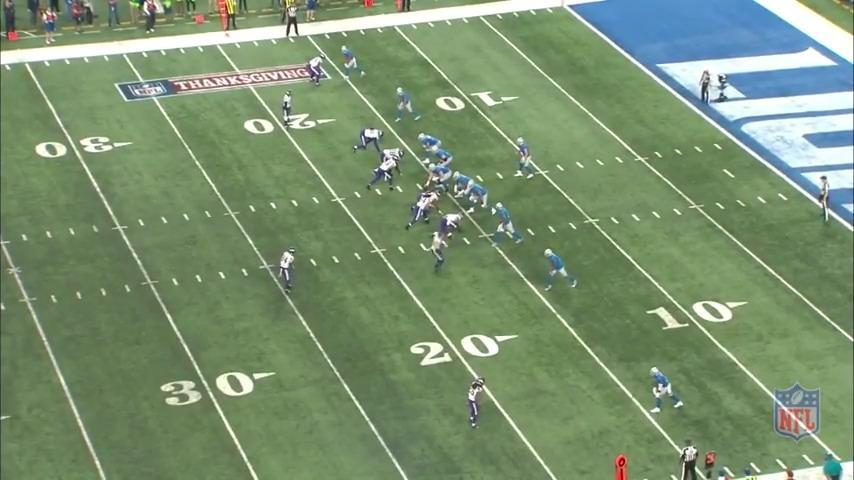player: (648, 365, 687, 417), (543, 245, 581, 294), (405, 189, 441, 231), (490, 200, 521, 247), (465, 373, 489, 433), (433, 216, 455, 275), (368, 155, 400, 192), (392, 86, 421, 125), (464, 180, 495, 216), (338, 45, 367, 82), (422, 159, 452, 194), (515, 135, 537, 182), (278, 246, 298, 296), (434, 210, 467, 240), (355, 128, 388, 153), (452, 171, 477, 202), (308, 54, 329, 88), (280, 90, 296, 131), (377, 147, 404, 171), (425, 146, 453, 166), (418, 131, 443, 151)
ref: (677, 438, 704, 480), (817, 174, 836, 225), (696, 63, 718, 107), (283, 2, 302, 40)
